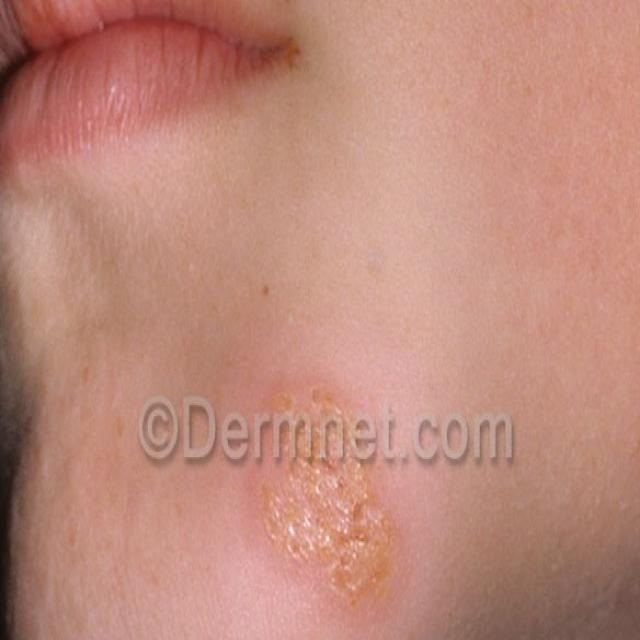Viral Infections: (230, 380, 447, 640)
